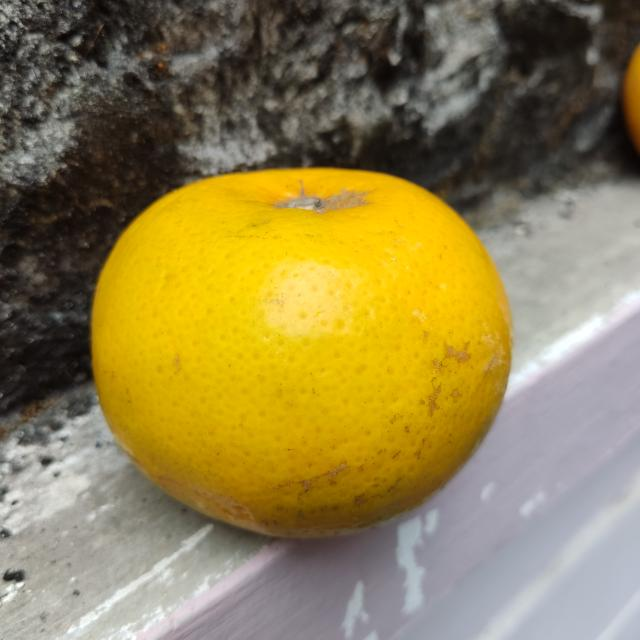orange: (88, 165, 518, 546)
